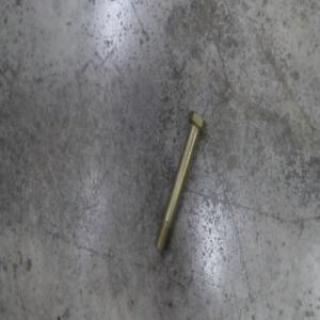Bolttrack_idkeyframe: (154, 109, 206, 253)
